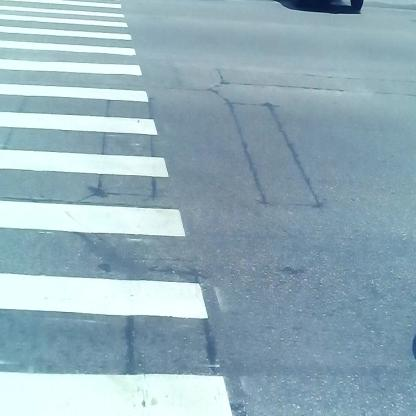crosswalk: (1, 2, 235, 404)
